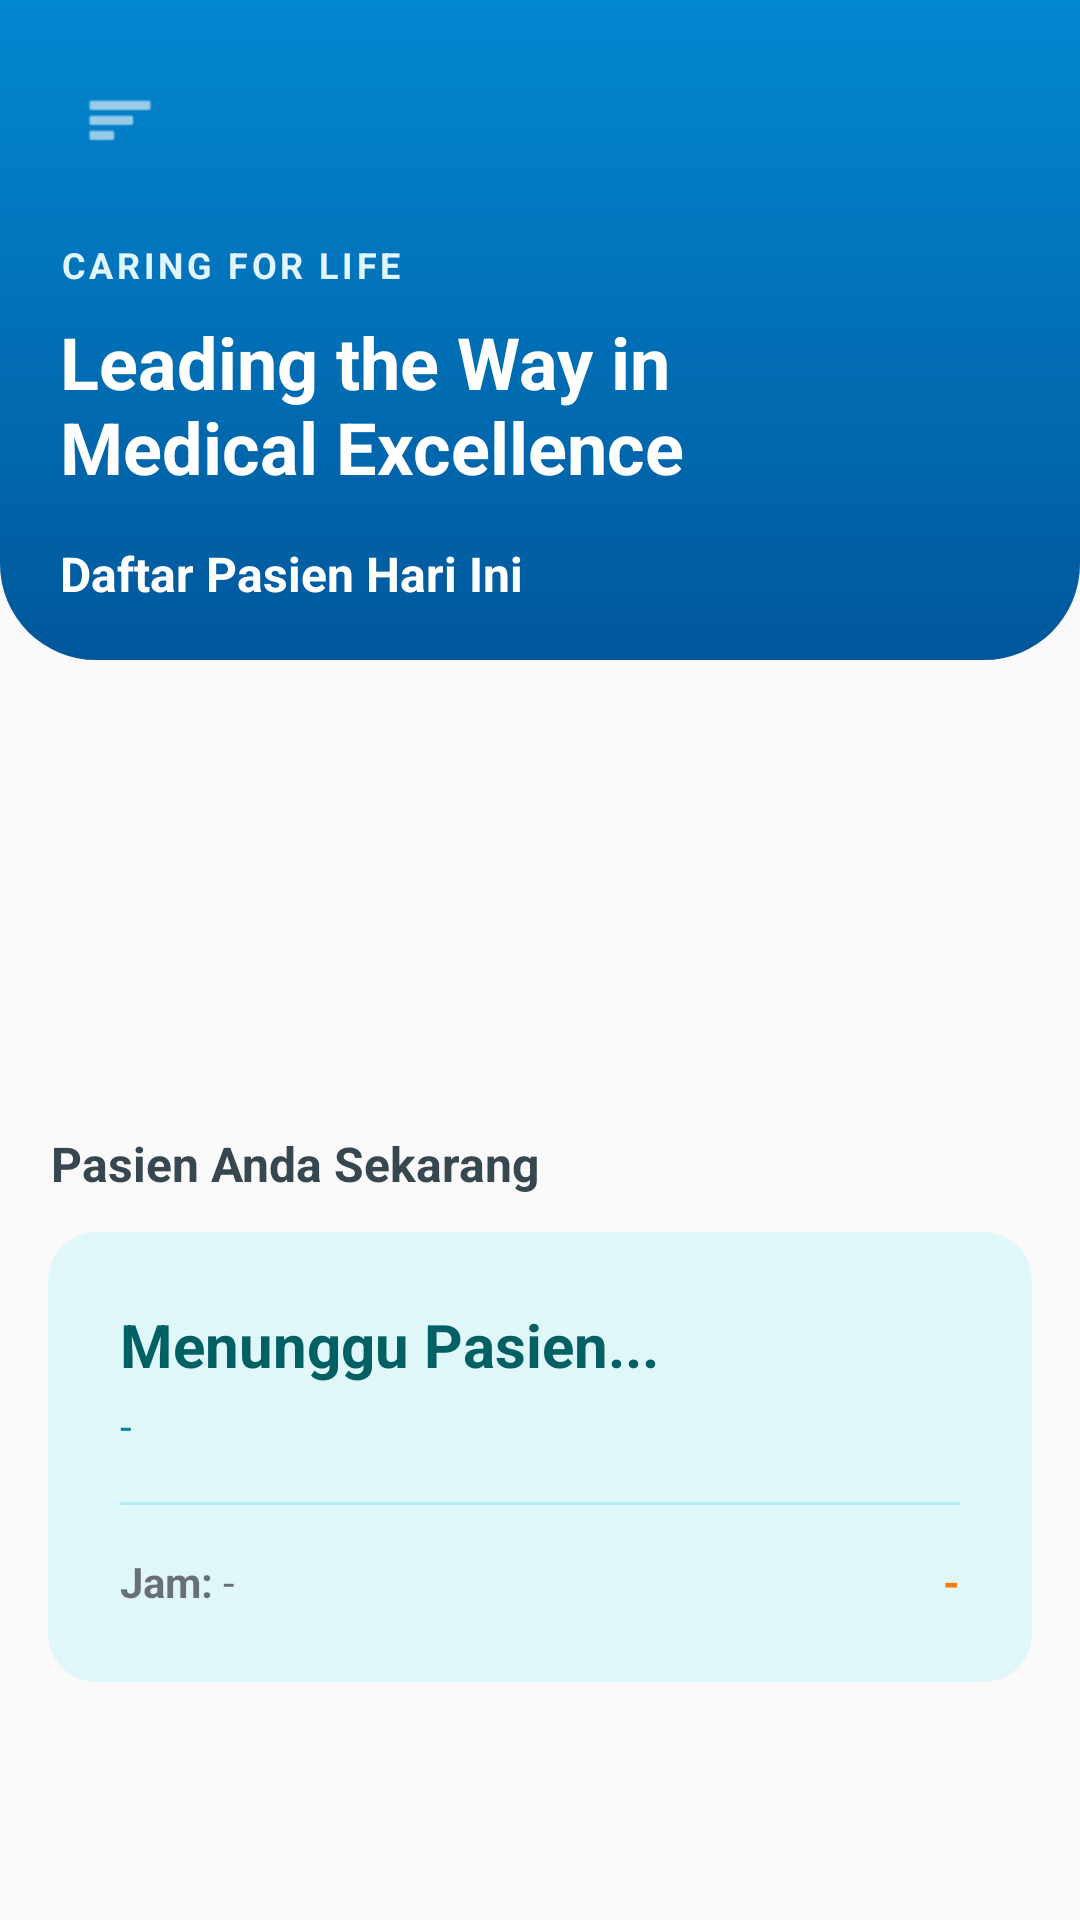

Screen size 1080x1920. Icon name, then its center in pixels as [x,y]:
sort by size: [120,120]
